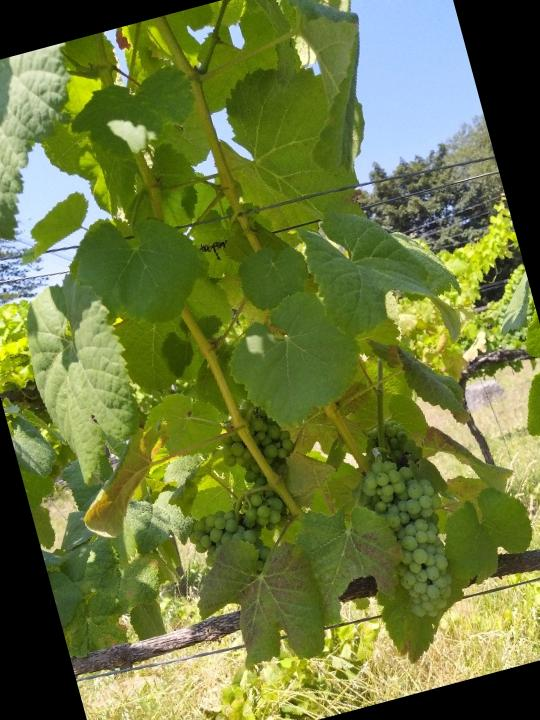grape: (353, 444, 469, 629), (212, 405, 315, 537), (179, 495, 280, 589)
